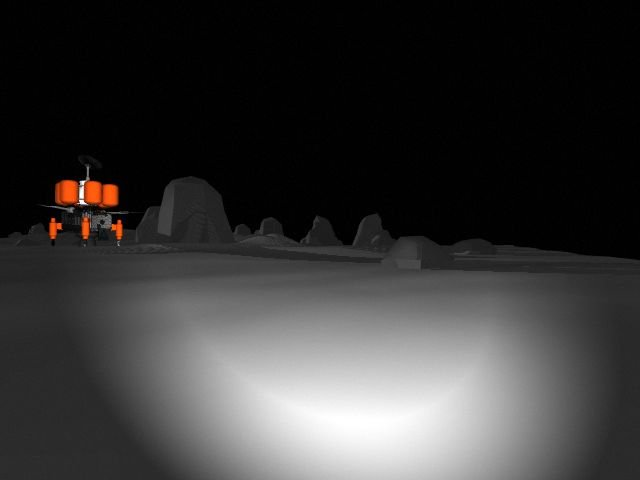homebase: (22, 154, 143, 253)
